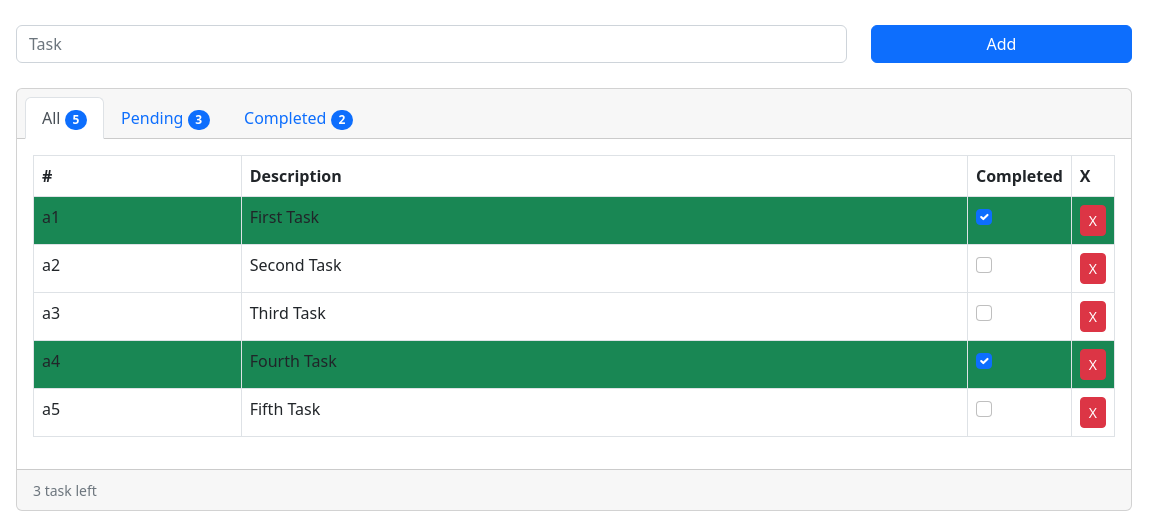
Test case: Todo Component › API Failed: Add Task
The image size is (1153, 528).
expect the number of rows with test id "task-row" is 5: met, box [34,197,1114,245]; [34,245,1114,293]; [34,293,1114,341]; [34,341,1114,389]; [34,389,1114,437]
// simulate: click on Add Task Button
Click the button with test id "button-add-task": (1002, 44) [871,25,1132,63]
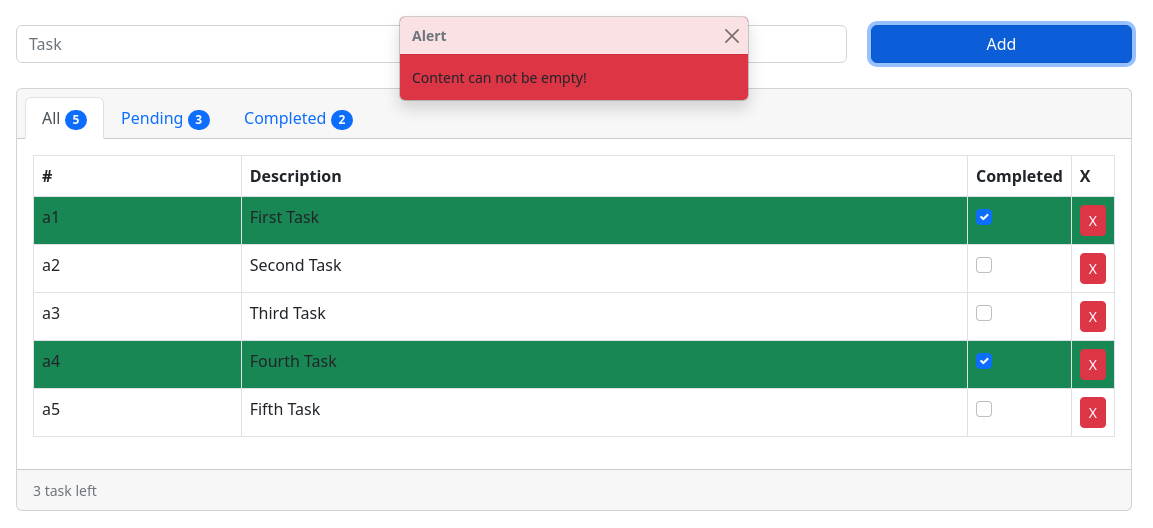
expect the number of rows with test id "task-row" is 5: met, box [34,197,1114,245]; [34,245,1114,293]; [34,293,1114,341]; [34,341,1114,389]; [34,389,1114,437]
expect the message "Alert Content can not be empty!" is shown: met, box [399,16,749,101]
expect the text with test id "toaster-body" reads "Content can not be empty!": met, box [412,68,587,87]
